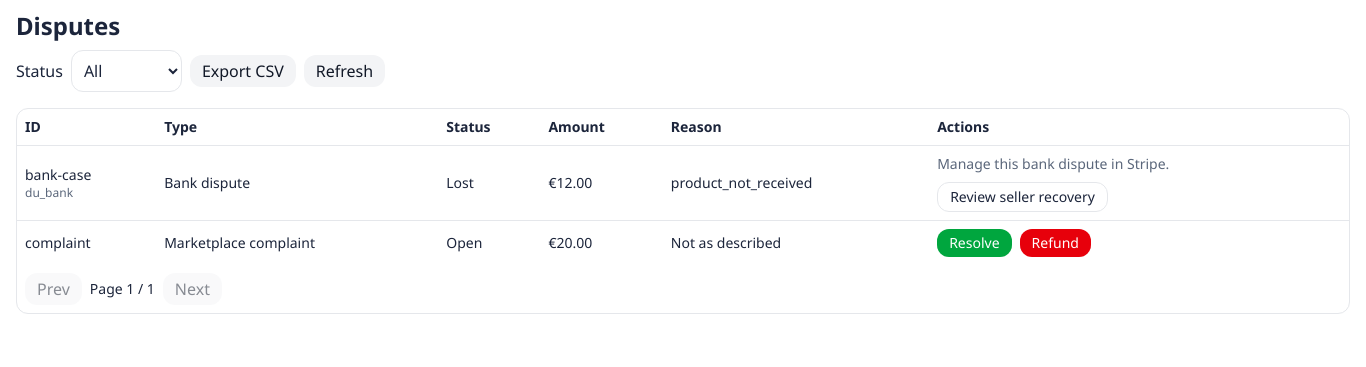
admin bank disputes and marketplace complaints › surfaces failed complaint actions and sends authenticated CSRF requests
Click the button "Resolve": (974, 243) [937, 229, 1012, 257]
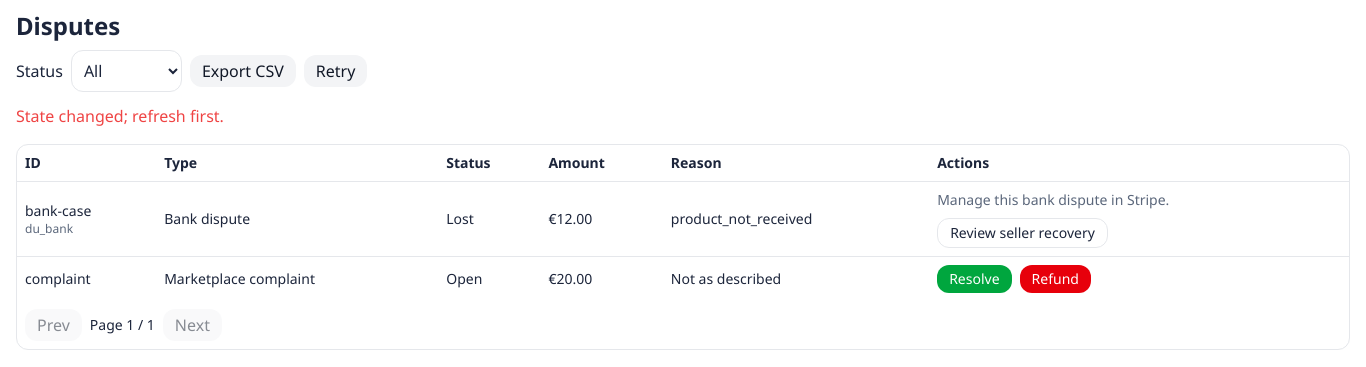
Expected: the button "Resolve" is enabled, [937, 265, 1012, 293]
Now the message reads "State changed; refresh first.", box [16, 105, 224, 127]
